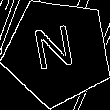N_S: (33, 24, 82, 80)
